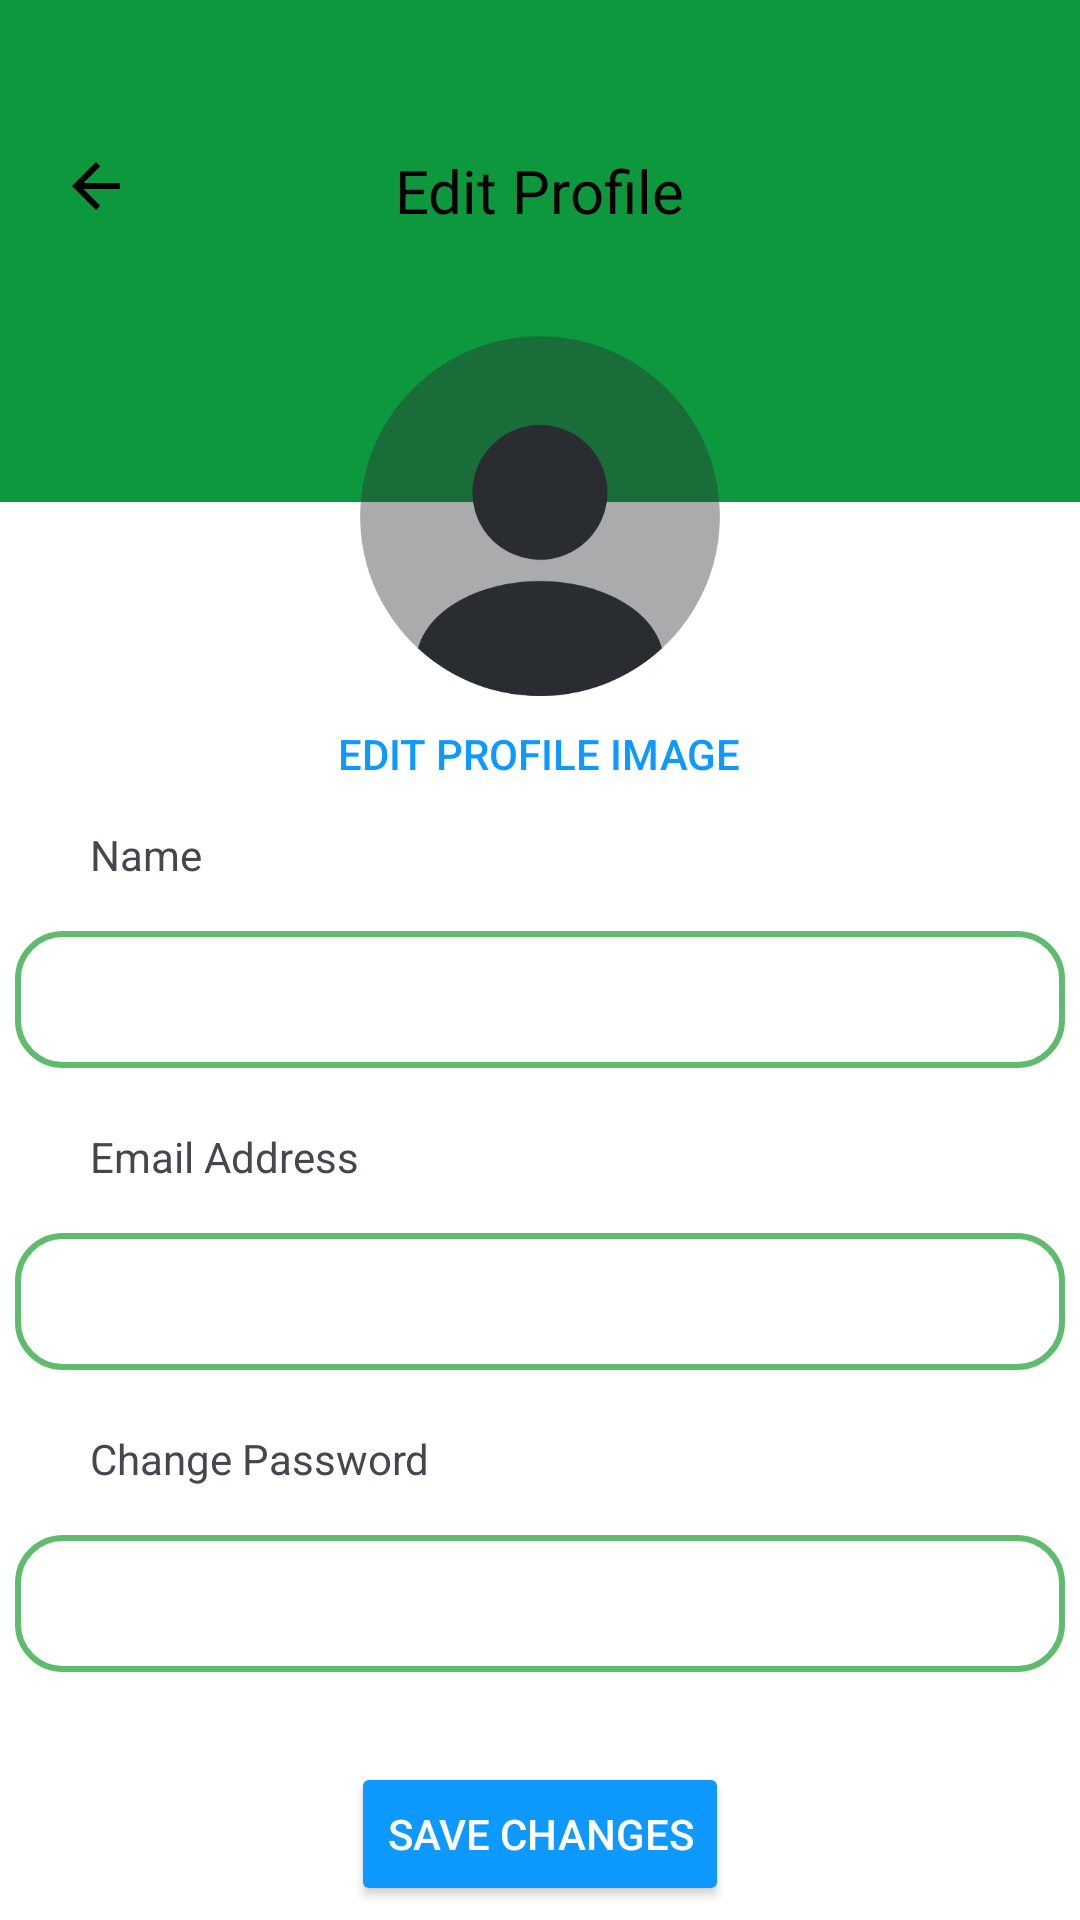

Named icons in this screenshot (1080w x 1920h) and their bounding boxes, box(x1, y1, x2, y2):
arrow back: box(72, 162, 120, 210)
